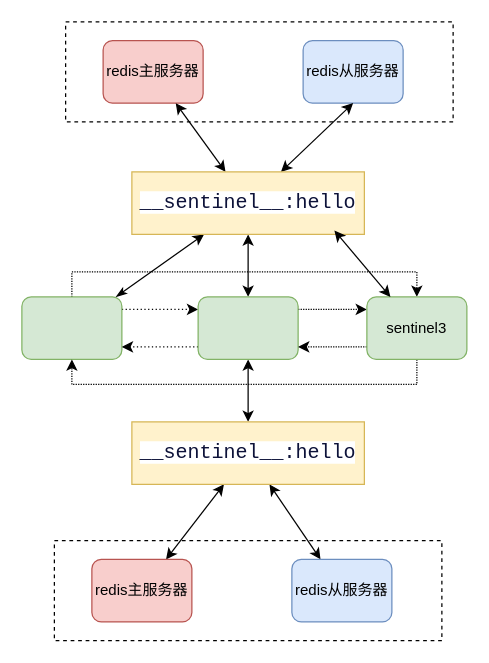
This 489x663 diagram has some shape labels left out. The shapes that lost their labels are listed below. From the top down, each one's box as (x1, y1, x2, y2) in pixels, then its label:
(21, 296, 122, 359): sentinel1
(197, 296, 298, 359): sentinel2
